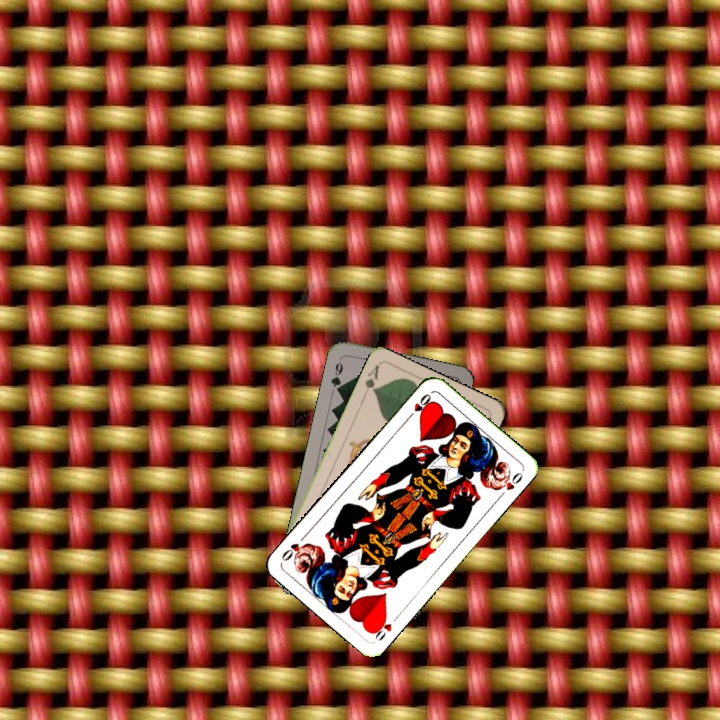G9: (327, 354, 346, 395)
GA: (359, 361, 382, 400)
HO: (368, 611, 402, 644), (403, 389, 433, 422)
